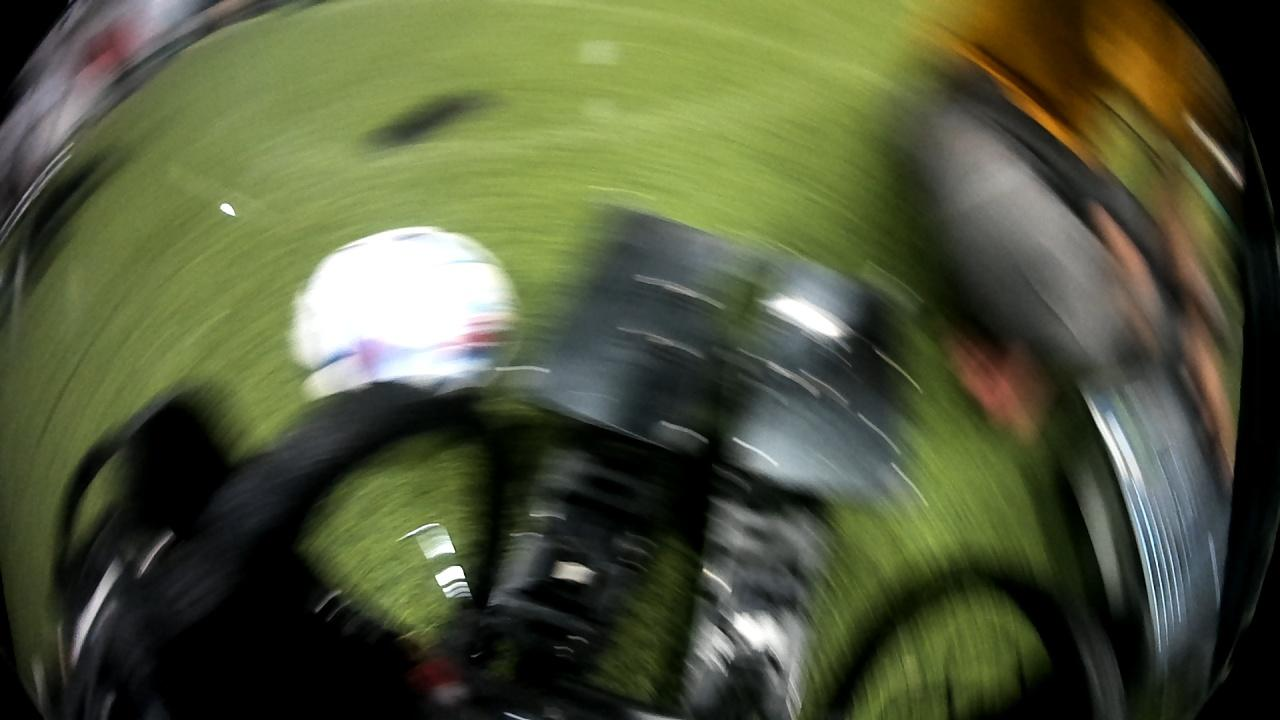ball: (284, 219, 532, 412)
